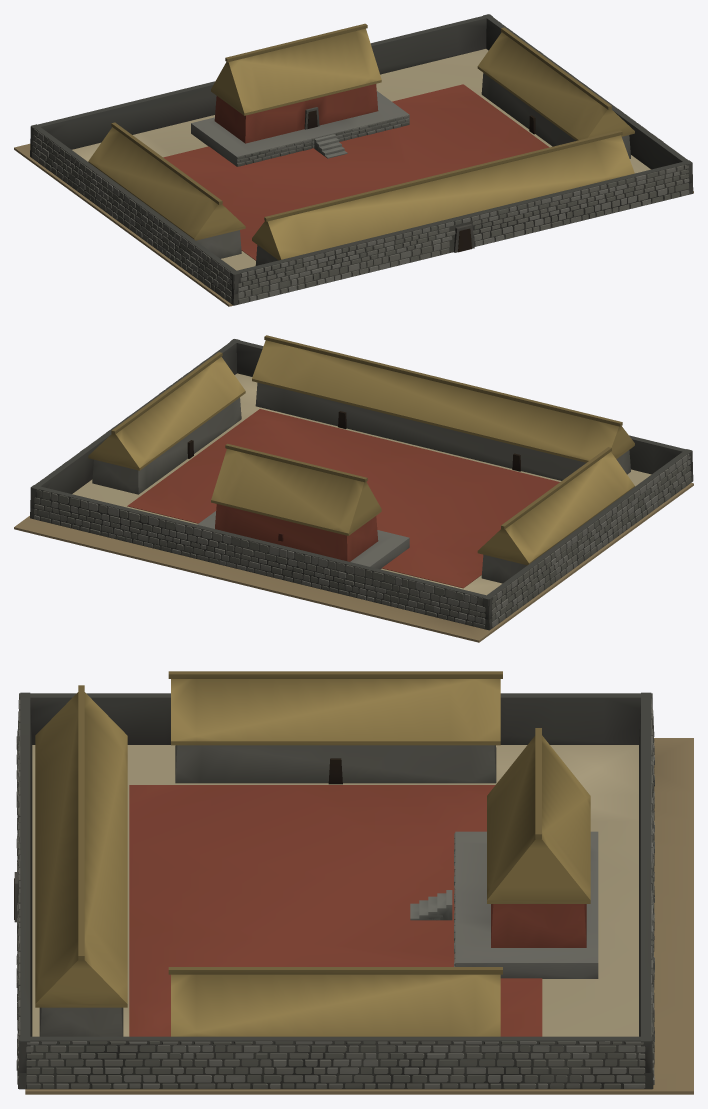
Rendered from pucamarca.glb.
3 views of the same model, one above another, from view 1: azimuth 30°, elevation 25°; view 2: azimuth 150°, elevation 25°; view 3: azimuth 270°, elevation 25° (orthographic). The views are drawn at different scales.
Parts seen in each view (by area): view 1: p1_walls, p2_roofs, p0_ground; view 2: p1_walls, p2_roofs, p0_ground; view 3: p1_walls, p2_roofs, p0_ground.
Boxes of the visible parts, x1,y1,x2,y2 form: p1_walls: (30, 14, 693, 305); p2_roofs: (88, 23, 634, 260); p0_ground: (14, 143, 693, 306); p1_walls: (30, 339, 693, 630); p2_roofs: (88, 335, 634, 565); p0_ground: (14, 483, 693, 642); p1_walls: (14, 692, 654, 1089); p2_roofs: (35, 671, 590, 1036); p0_ground: (25, 738, 693, 1094).
Size of the model in its own units: 70 by 12.65 by 56.95.
